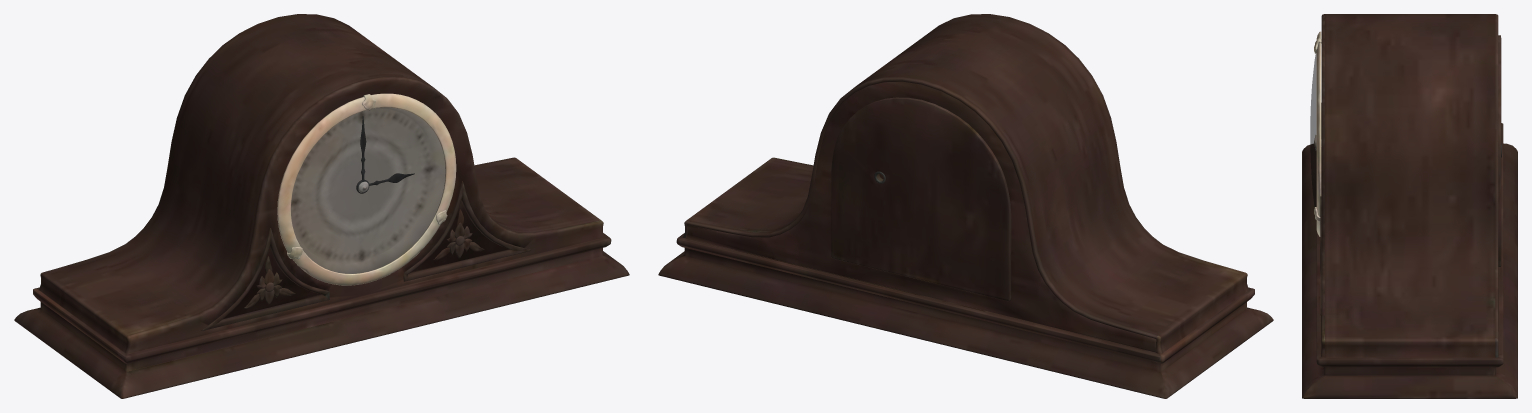
Rendered from mantel_clock_01.glb.
3 renders of one model, left to right at view 1: azimuth 30°, elevation 25°; view 2: azimuth 150°, elevation 25°; view 3: azimuth 270°, elevation 25°, orthographic.
Visible parts, largest first — view 1: mantel_clock_01, mantel_clock_01_glass; view 2: mantel_clock_01; view 3: mantel_clock_01, mantel_clock_01_glass.
Part boxes in pixels (x1,y1,x2,y2): mantel_clock_01: (14, 14, 629, 398); mantel_clock_01_glass: (291, 107, 445, 273); mantel_clock_01: (658, 14, 1273, 398); mantel_clock_01: (1302, 14, 1517, 398); mantel_clock_01_glass: (1310, 53, 1316, 206).
Bounding box in the file's own units: 0.3423 × 0.1605 × 0.126.
2 materials, 2 textured.
